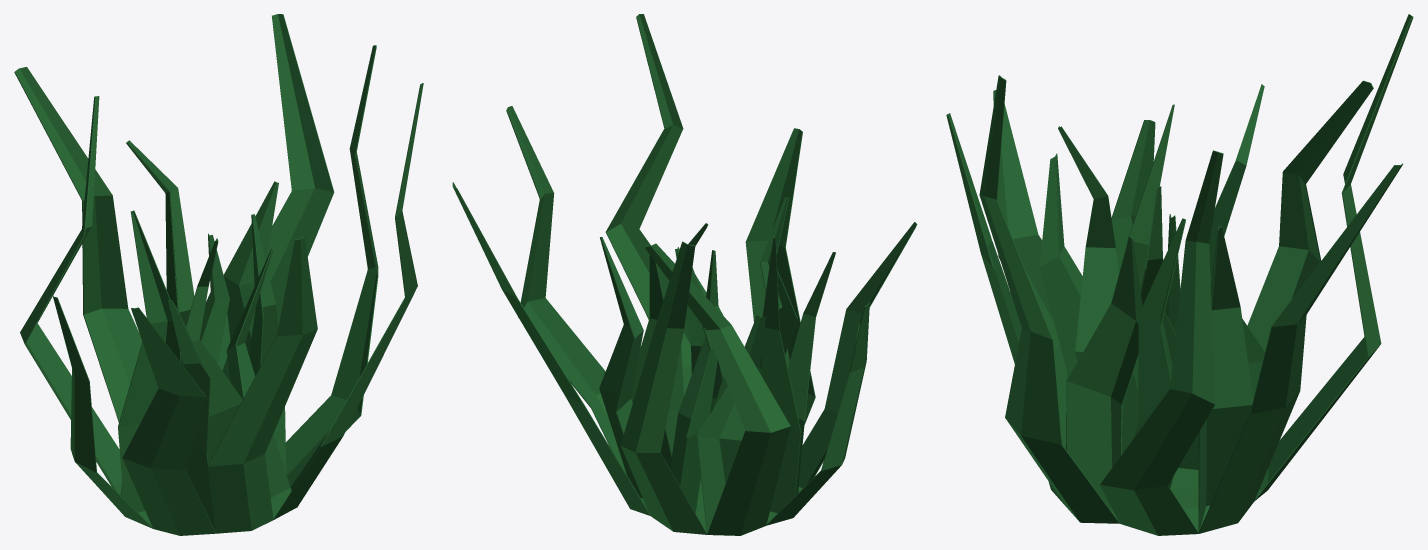
The model's file is Coral5.fbx.
3 views of the same model, side by side, from view 1: azimuth 30°, elevation 25°; view 2: azimuth 150°, elevation 25°; view 3: azimuth 270°, elevation 25° (orthographic). The views are drawn at different scales.
Visible parts, largest first — view 1: Plane; view 2: Plane; view 3: Plane.
Part boxes in pixels (box(x1,y1,x2,y2)): Plane: box(14, 14, 423, 535); Plane: box(452, 14, 917, 535); Plane: box(946, 14, 1413, 535).
Bounding box in the file's own units: 132 × 154 × 130.
